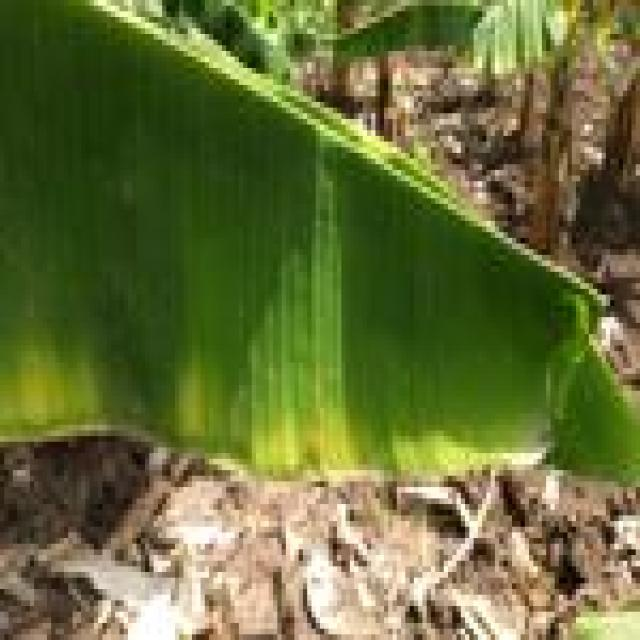Early_rust: (0, 312, 610, 584)
